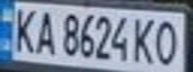2: (93, 11, 115, 61)
4: (109, 12, 133, 62)
6: (78, 11, 96, 60)
8: (57, 9, 81, 57)
A: (30, 7, 57, 56)
K: (9, 4, 39, 54), (130, 13, 157, 64)
O: (151, 16, 184, 68)
